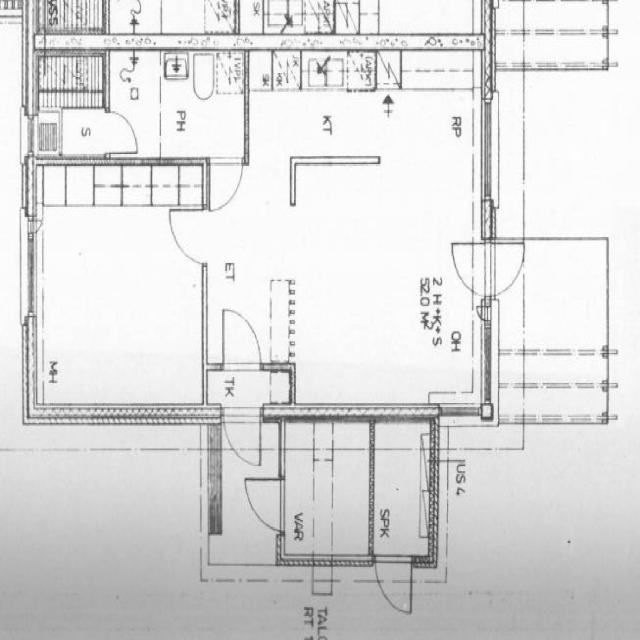door: (217, 303, 265, 375), (164, 202, 212, 268), (222, 404, 265, 473), (374, 551, 415, 618), (242, 470, 285, 533), (484, 235, 526, 297), (206, 153, 246, 215), (446, 237, 486, 295), (104, 102, 142, 160), (20, 202, 44, 244)
window: (472, 86, 501, 213)
zone: (28, 159, 208, 421), (436, 417, 638, 640), (495, 227, 610, 424), (107, 44, 246, 161), (280, 416, 372, 563), (372, 416, 436, 562), (30, 44, 111, 145)
